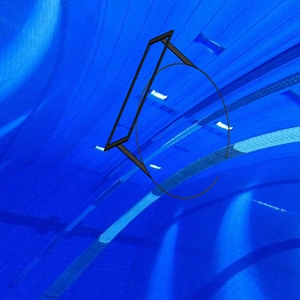circle: (105, 29, 232, 202)
